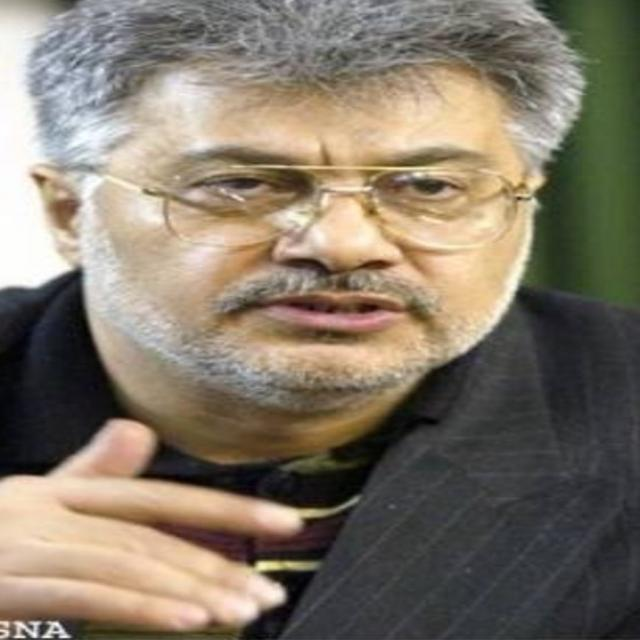Glasses: (87, 160, 535, 252)
